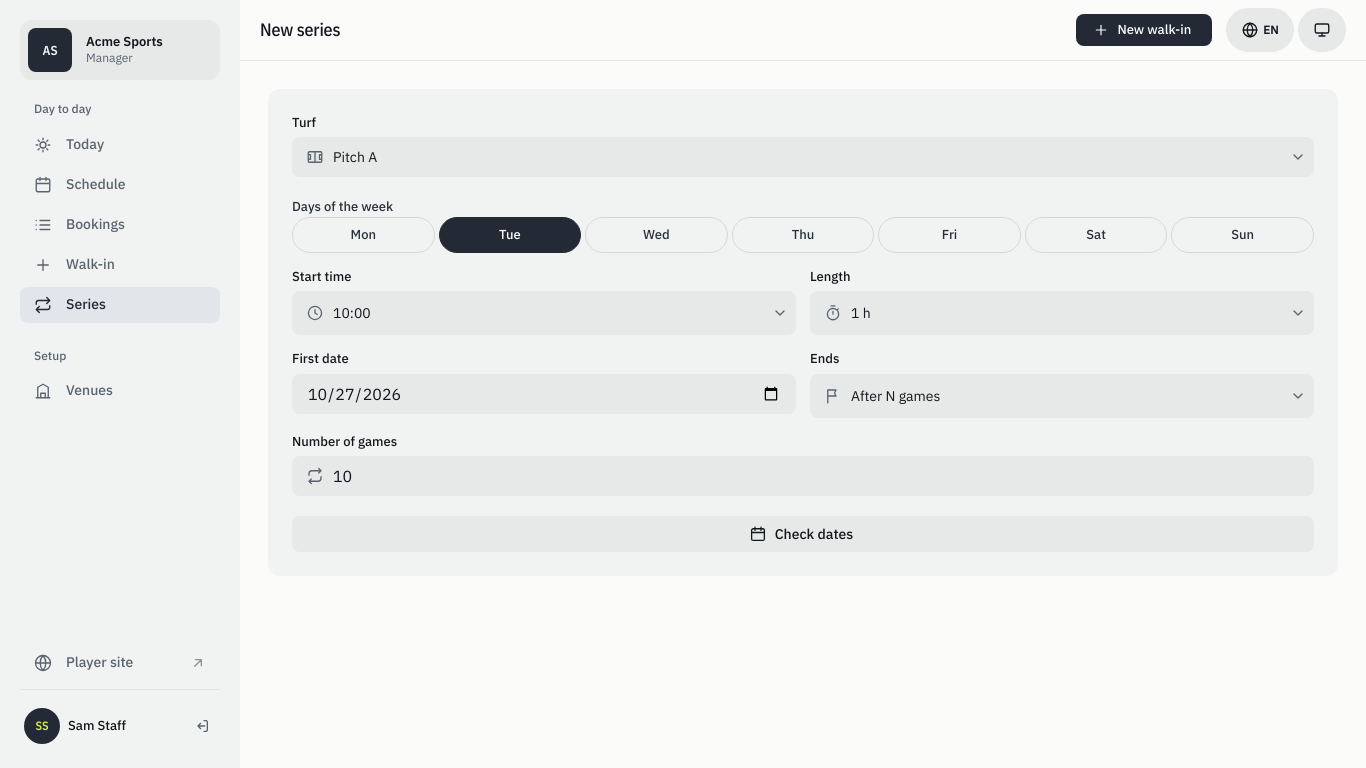
Test case: New series page › series_too_long shows the translated error
expect the dropdown labelled "Start time" shows "10:00": met, box [292,291,796,335]
Click the button "Check dates" at (803, 534), box [292,516,1314,552]
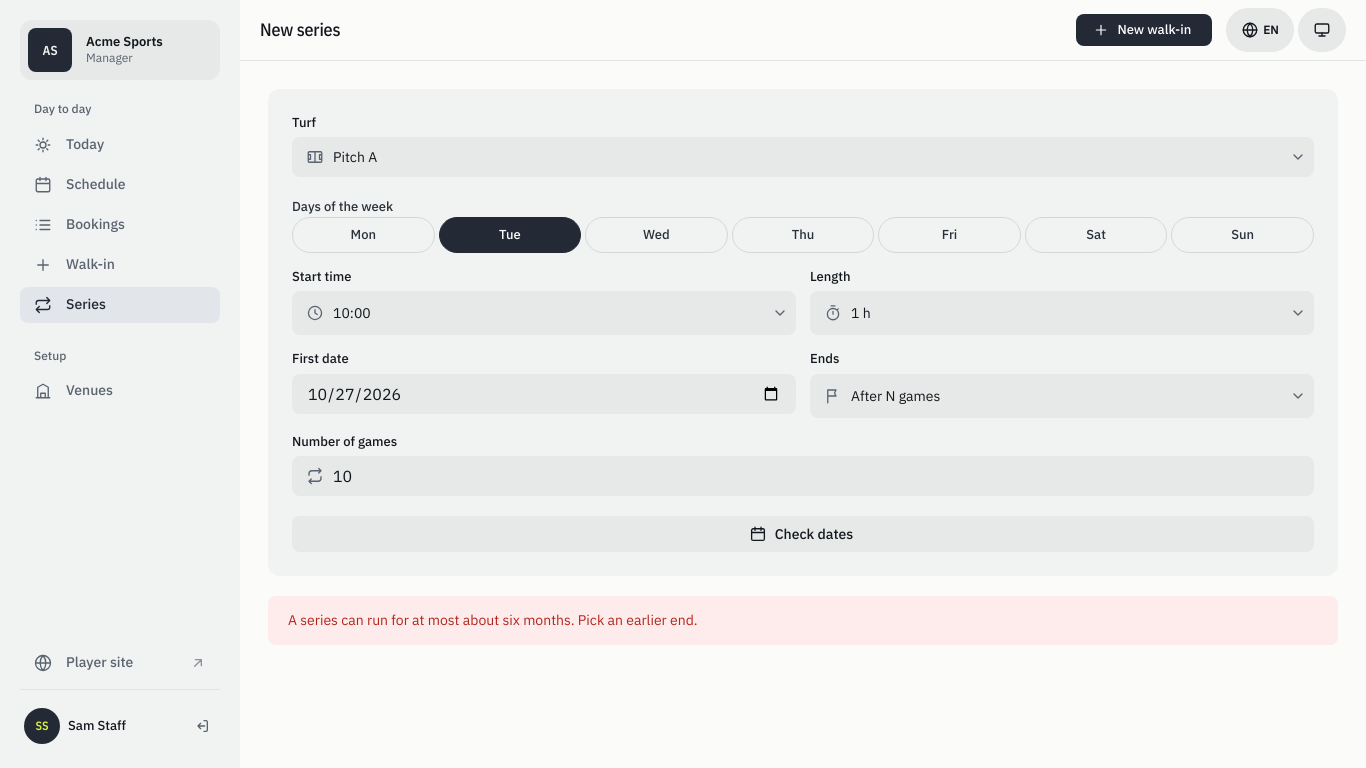
expect the text "A series can run for at most about six months. Pick an earlier end." is shown: met, box [268,596,1338,645]
